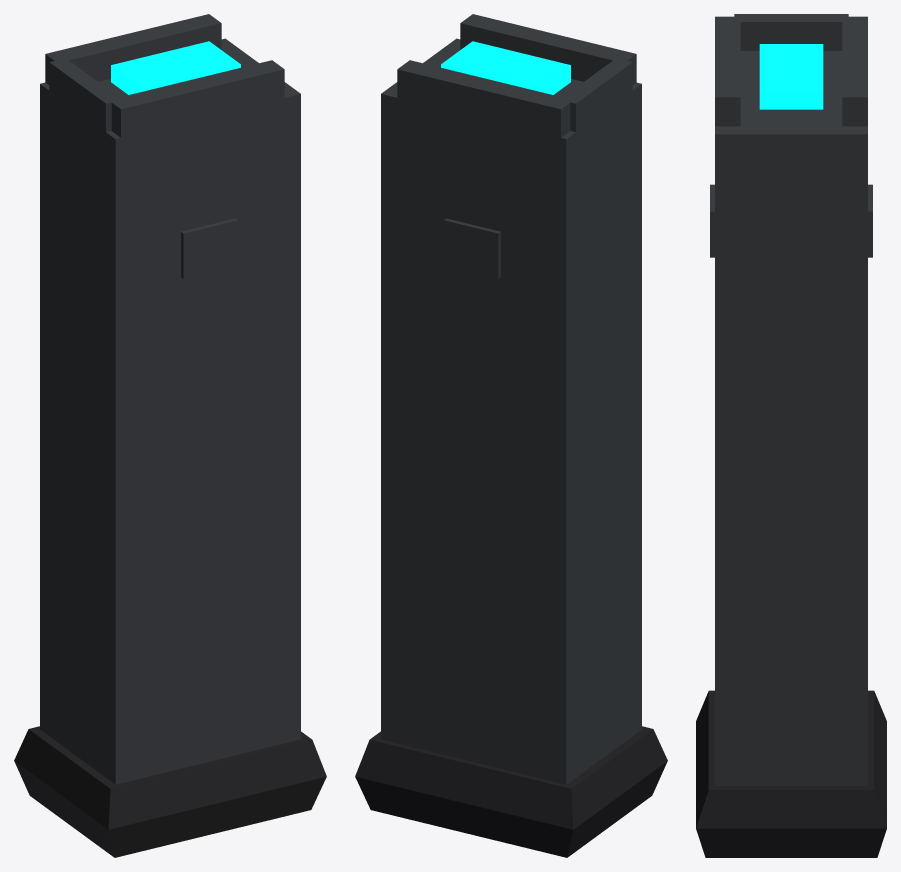
The model's file is WEP_MOD_01_MAG.glb.
The picture shows the model from 3 angles, left to right: view 1: azimuth 30°, elevation 25°; view 2: azimuth 150°, elevation 25°; view 3: azimuth 270°, elevation 25°; orthographic projection.
Parts seen in each view (by area): view 1: SM_WEP_MOD_01_MAG; view 2: SM_WEP_MOD_01_MAG; view 3: SM_WEP_MOD_01_MAG.
Boxes of the visible parts, box(x1,y1,x2,y2) form: SM_WEP_MOD_01_MAG: box(14, 14, 326, 857); SM_WEP_MOD_01_MAG: box(355, 14, 667, 857); SM_WEP_MOD_01_MAG: box(696, 14, 886, 857).
Size of the model in its own units: 0.04 by 0.1315 by 0.03.
